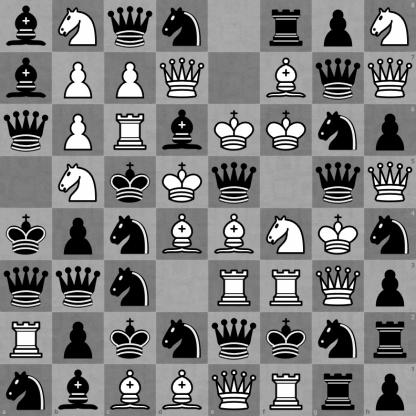B: (156, 364, 209, 416), (104, 364, 156, 416), (157, 209, 208, 260), (209, 209, 260, 260), (261, 53, 312, 104)
K: (157, 157, 208, 208), (209, 105, 260, 156), (261, 105, 312, 156), (313, 209, 364, 260)
N: (364, 0, 416, 52), (53, 1, 104, 52), (53, 157, 104, 208), (261, 209, 312, 260)
P: (53, 53, 104, 104), (53, 105, 104, 156), (105, 53, 156, 104)
Q: (364, 156, 416, 209), (364, 52, 416, 104), (209, 364, 260, 416), (157, 53, 208, 104), (313, 261, 364, 312)
R: (260, 364, 312, 416), (1, 313, 52, 364), (105, 105, 156, 156), (209, 261, 260, 312), (261, 261, 312, 312)
b: (52, 364, 104, 416), (1, 1, 52, 52), (1, 53, 52, 104), (157, 105, 208, 156)
board: (0, 0, 415, 415)
k: (1, 209, 52, 260), (105, 157, 156, 208), (105, 313, 156, 364), (261, 313, 312, 364)
n: (0, 364, 52, 416), (364, 209, 416, 260), (105, 209, 156, 260), (105, 261, 156, 312), (157, 1, 208, 52), (157, 313, 208, 364), (313, 105, 364, 156), (313, 313, 364, 364)
p: (364, 104, 416, 156), (364, 260, 416, 312), (364, 364, 416, 416), (53, 209, 104, 260), (53, 313, 104, 364), (313, 1, 364, 52)
q: (1, 105, 52, 156), (1, 261, 52, 312), (53, 261, 104, 312), (105, 1, 156, 52), (209, 157, 260, 208), (209, 313, 260, 364), (313, 53, 364, 104), (313, 157, 364, 208)
r: (312, 364, 364, 416), (364, 312, 416, 364), (261, 1, 312, 52)
